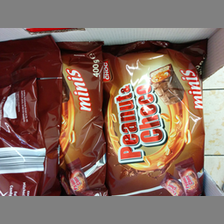chocolate: (105, 43, 207, 196), (48, 39, 107, 196)
